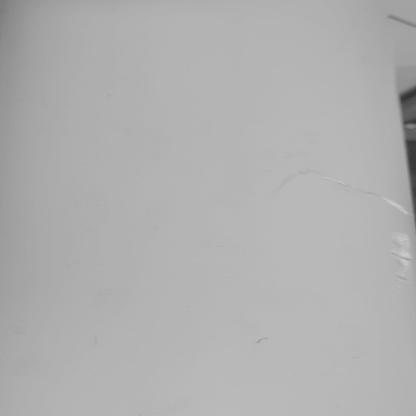sunshang: (321, 175, 414, 217), (391, 230, 415, 284)
